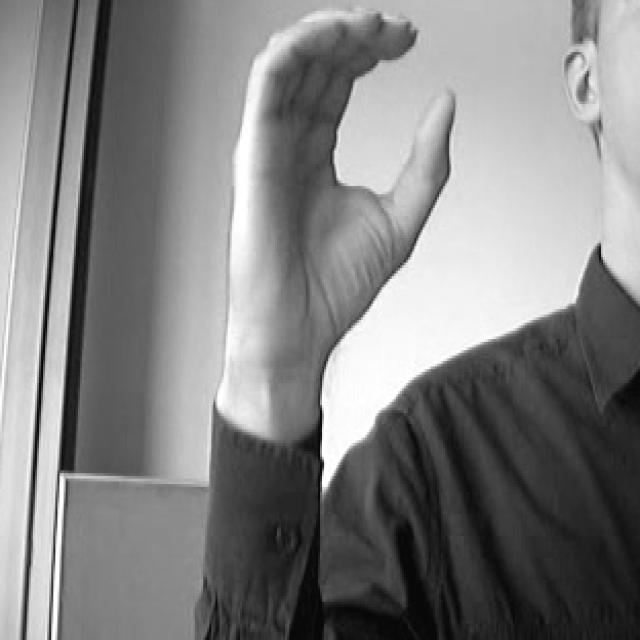C: (220, 0, 462, 394)
